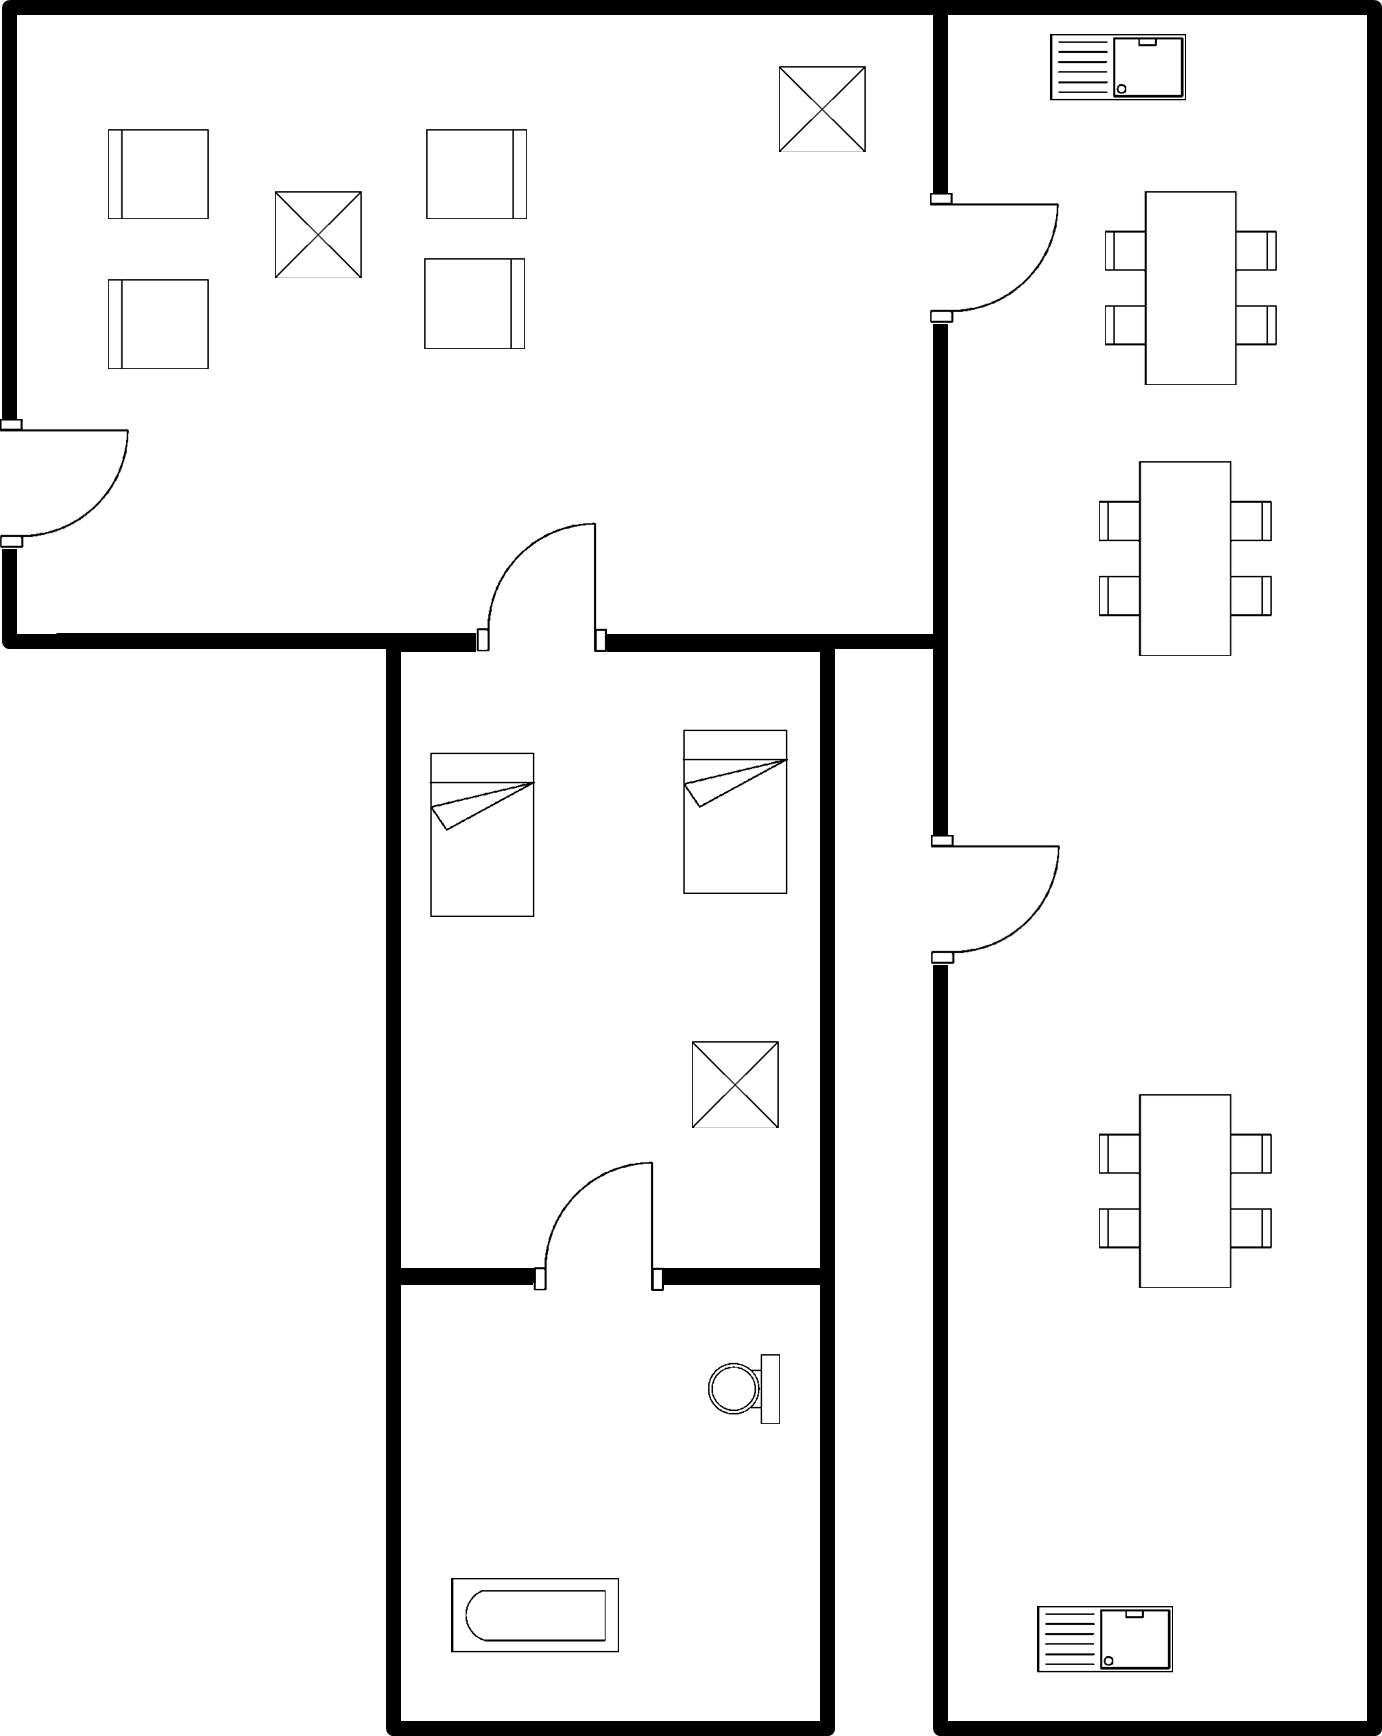bed: (417, 740, 549, 935), (671, 720, 798, 910)
coffee_table: (262, 178, 379, 293), (676, 1027, 795, 1140), (769, 52, 879, 161)
dining_table: (1074, 1079, 1283, 1303), (1083, 447, 1283, 674), (1093, 179, 1288, 395)
large_sink: (688, 1342, 790, 1439)
sink: (1024, 1591, 1190, 1688), (1034, 22, 1196, 117)
small_sofa: (91, 112, 220, 239), (412, 117, 540, 235), (90, 268, 220, 385), (410, 249, 535, 366)
tub: (437, 1562, 629, 1666)
